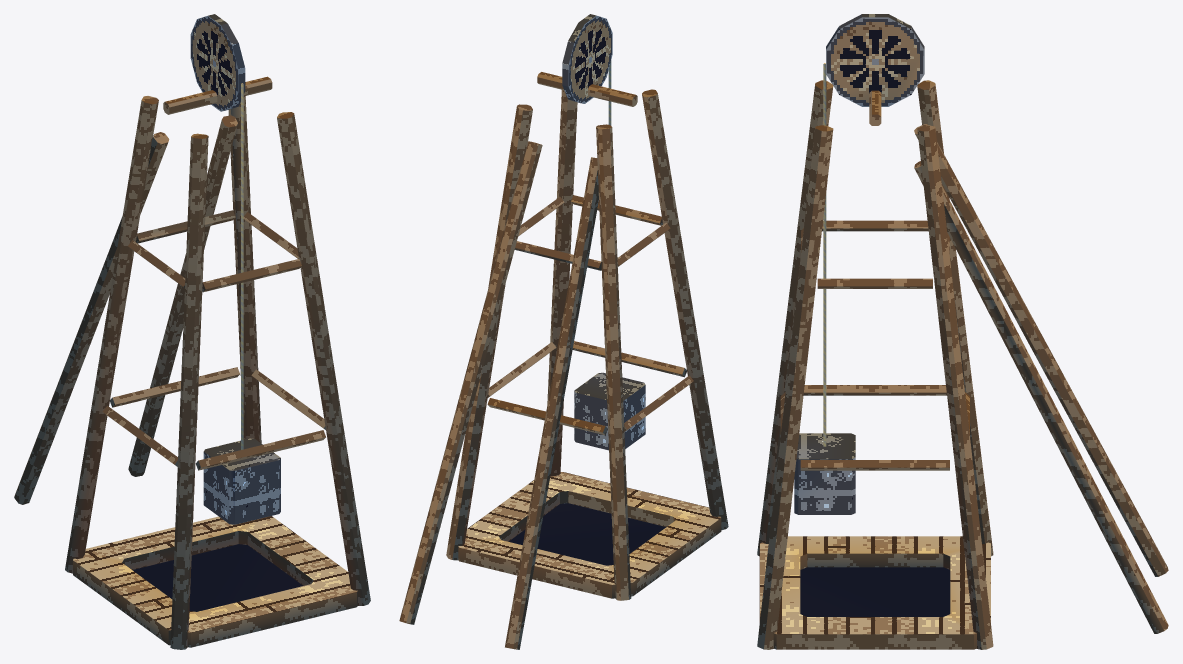
The model's file is wmine.headframe.glb.
The picture shows the model from 3 angles, left to right: view 1: azimuth 30°, elevation 25°; view 2: azimuth 150°, elevation 25°; view 3: azimuth 270°, elevation 25°; orthographic projection. The views are drawn at different scales.
Parts seen in each view (by area): view 1: kit_legs, kit_collar, kit_backs, kit_girts, kit_card_shaft, kit_cage, kit_sheave, kit_sheave_axle, kit_rope; view 2: kit_legs, kit_backs, kit_collar, kit_girts, kit_card_shaft, kit_sheave, kit_cage, kit_sheave_axle; view 3: kit_legs, kit_backs, kit_collar, kit_card_shaft, kit_sheave, kit_girts, kit_cage, kit_rope.
Boxes of the visible parts, x1,y1,x2,y2 form: kit_legs: [65, 96, 370, 649]; kit_collar: [73, 516, 357, 647]; kit_backs: [14, 115, 237, 504]; kit_girts: [102, 210, 325, 470]; kit_card_shaft: [132, 544, 302, 611]; kit_cage: [203, 438, 280, 524]; kit_sheave: [190, 14, 245, 111]; kit_sheave_axle: [163, 76, 272, 114]; kit_rope: [241, 83, 243, 449]; kit_legs: [446, 89, 728, 600]; kit_backs: [399, 141, 598, 649]; kit_collar: [458, 472, 721, 598]; kit_girts: [487, 195, 693, 435]; kit_card_shaft: [508, 503, 665, 565]; kit_sheave: [562, 14, 612, 103]; kit_cage: [574, 372, 645, 450]; kit_sheave_axle: [537, 72, 637, 106]; kit_legs: [757, 80, 993, 649]; kit_backs: [914, 124, 1168, 633]; kit_collar: [759, 536, 990, 649]; kit_card_shaft: [800, 567, 950, 616]; kit_sheave: [826, 14, 924, 106]; kit_girts: [780, 220, 969, 470]; kit_cage: [794, 433, 855, 514]; kit_rope: [823, 63, 826, 446].
Bounding box in the file's own units: 3.46 × 9.52 × 6.04.
Materials: 6 (6 with a texture image).
